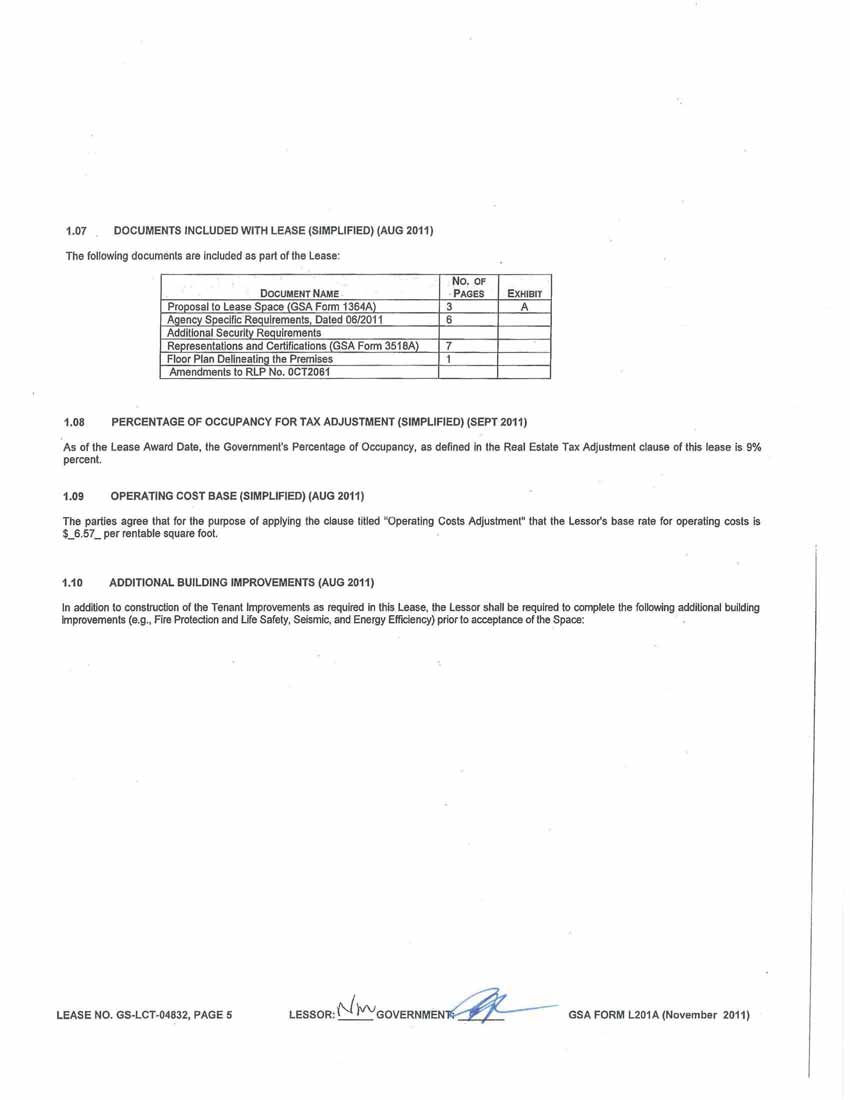handwritten: (448, 959, 565, 1044), (331, 986, 385, 1030)
